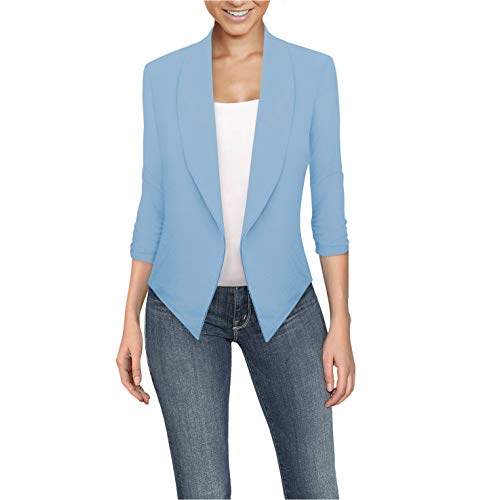F_W_suit jacket: (139, 44, 354, 308)
